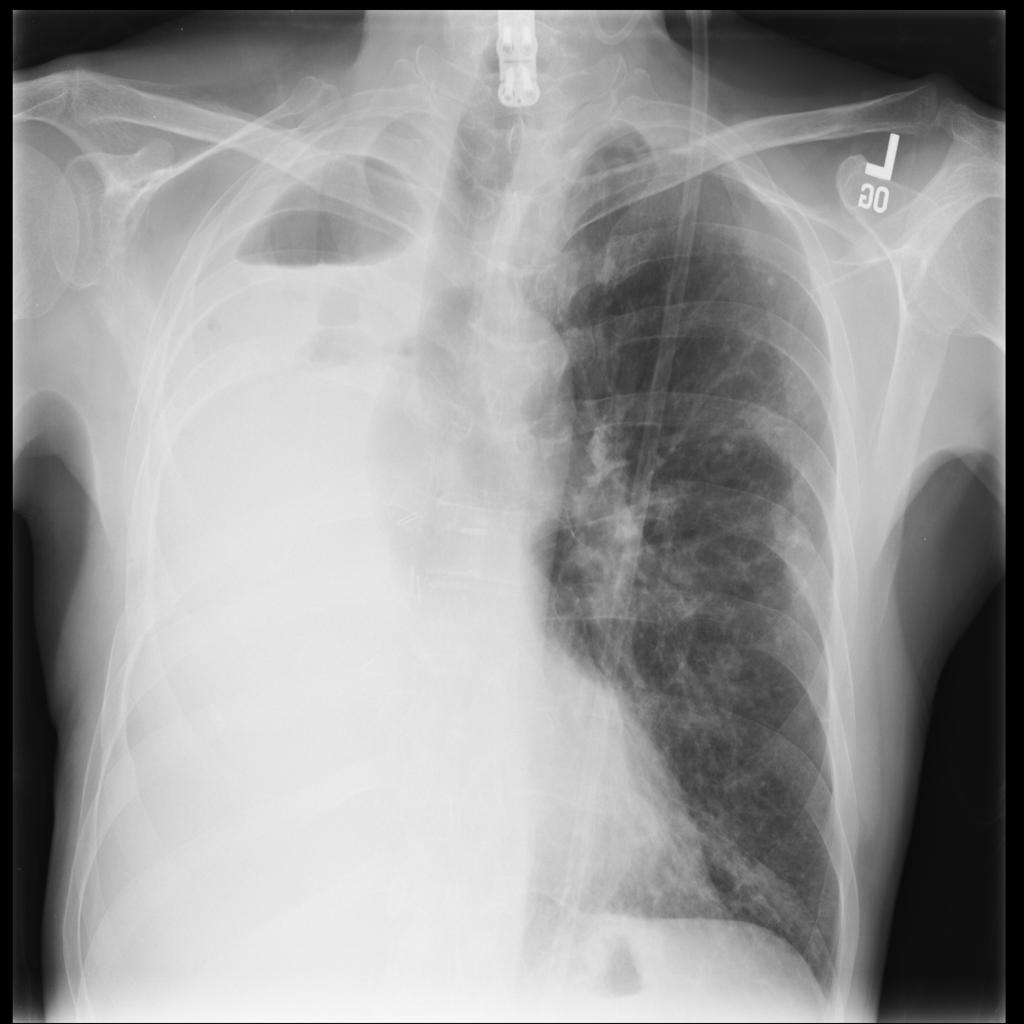nodule: (695, 624, 758, 703), (755, 261, 791, 297)
